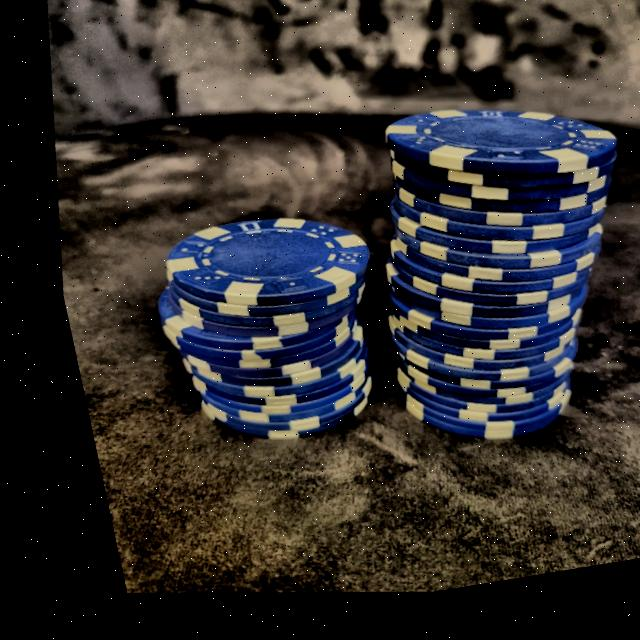Chip: (291, 66, 640, 505), (93, 172, 420, 495)
